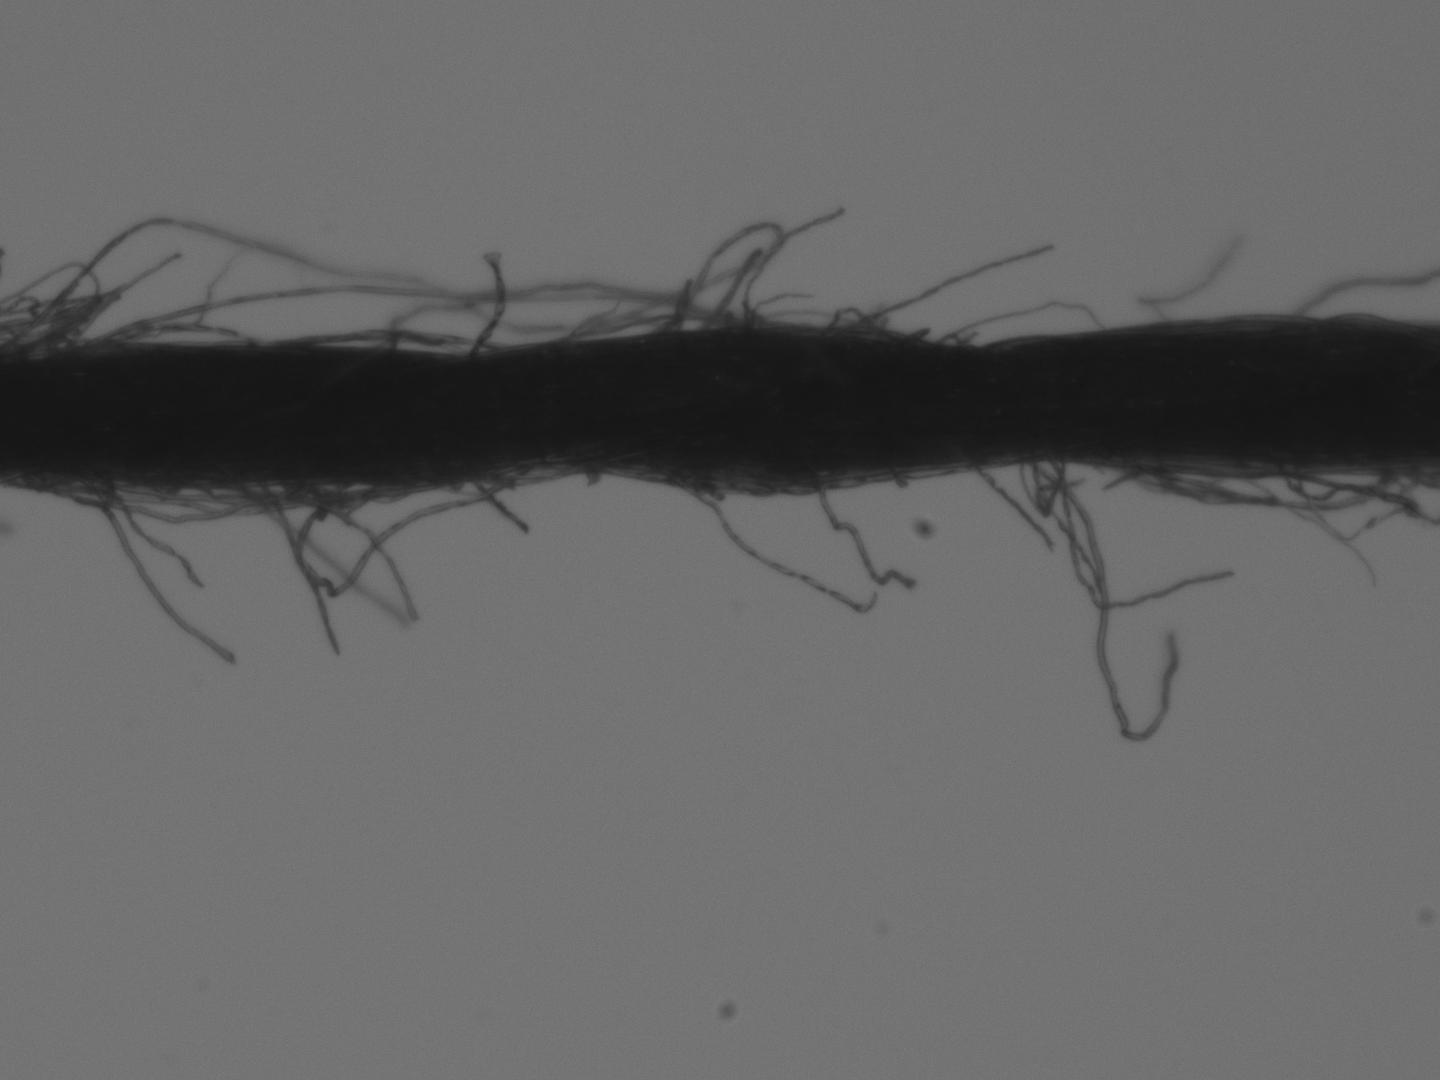loop_fiber: (383, 278, 740, 361), (650, 217, 780, 338), (41, 467, 305, 524), (1119, 459, 1397, 509), (94, 320, 251, 356), (269, 475, 379, 516), (819, 305, 914, 343), (1023, 454, 1062, 512)
protruding_fiber: (84, 475, 236, 668), (675, 481, 884, 611), (853, 243, 1056, 324), (971, 463, 1057, 555), (461, 250, 503, 361), (464, 475, 533, 540)
